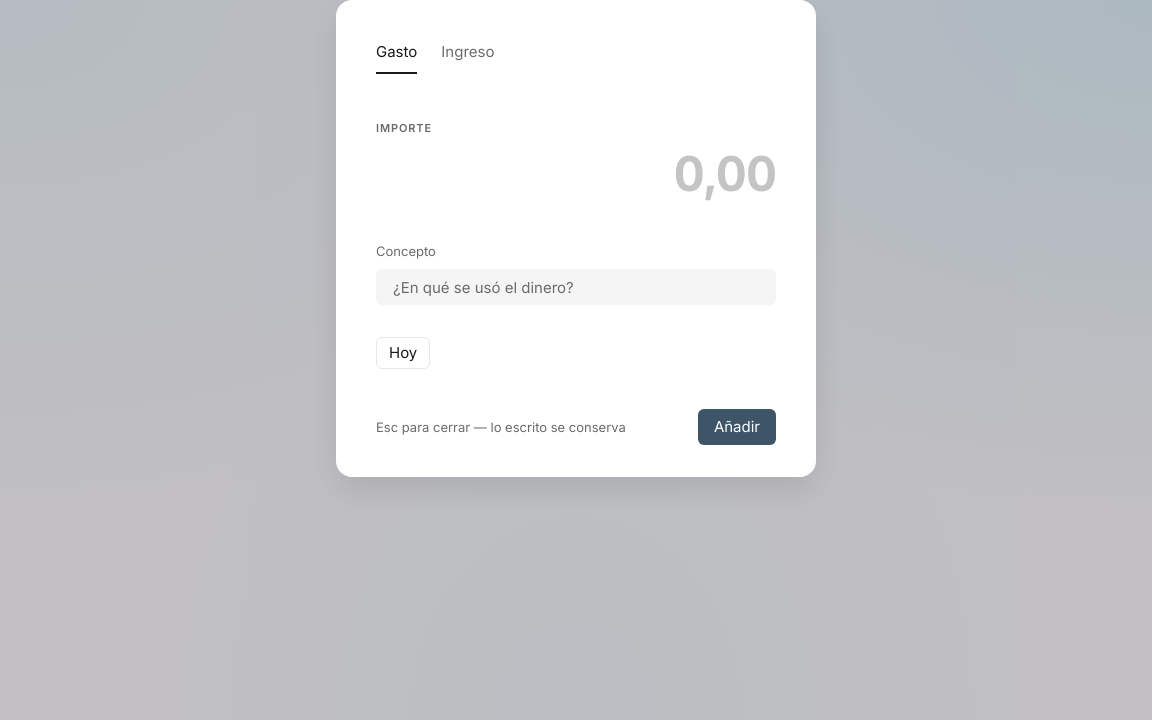
NewMovementSheet — Checkpoint III-A (Saldo Design Constitution v1.2) › gate de IA: con canUseAI && hasConsent, muestra AISuggestedCategory tras sugerencia (no el chip "Elegir categoría")
Type "Supermercado" into the field labelled "Concepto" at (576, 287), box [376,269,776,305]
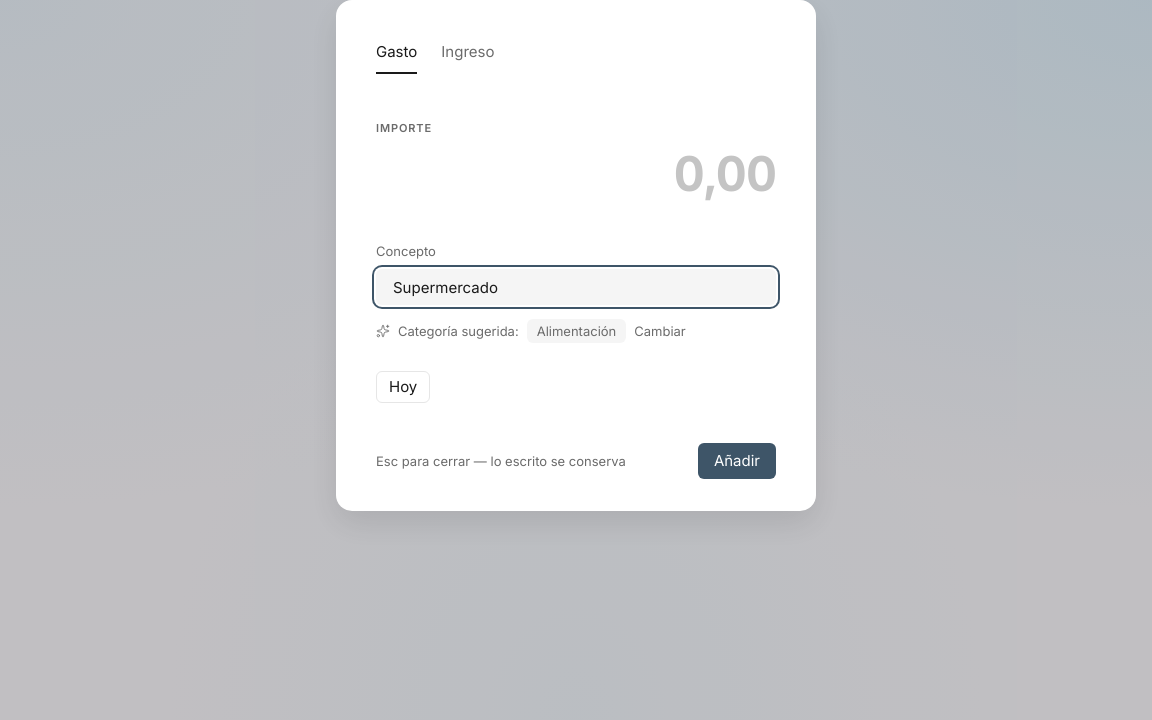
expect the text "Categoría sugerida:" is shown: met, box [398,321,519,341]
expect the text "Alimentación" is shown: met, box [527,319,626,343]
